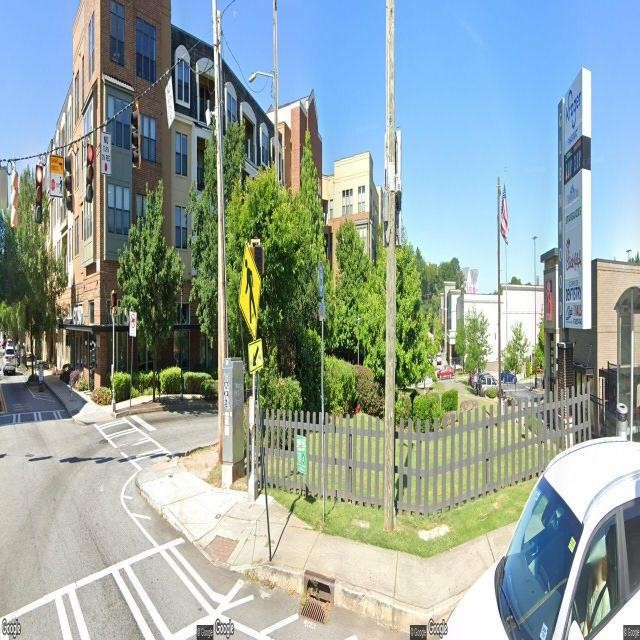shelter: (613, 282, 640, 443)
trash_can: (616, 403, 628, 440)
